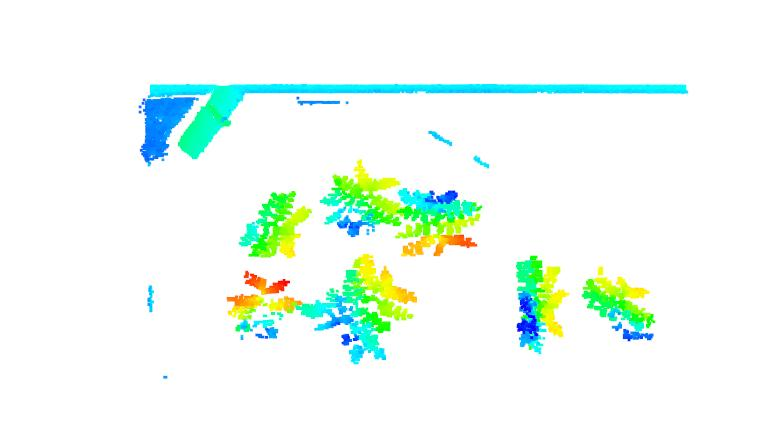chickpea: (300, 255, 420, 361), (320, 160, 402, 237), (398, 186, 481, 261), (582, 266, 656, 339), (225, 272, 302, 342), (515, 256, 568, 355), (236, 189, 310, 259)
